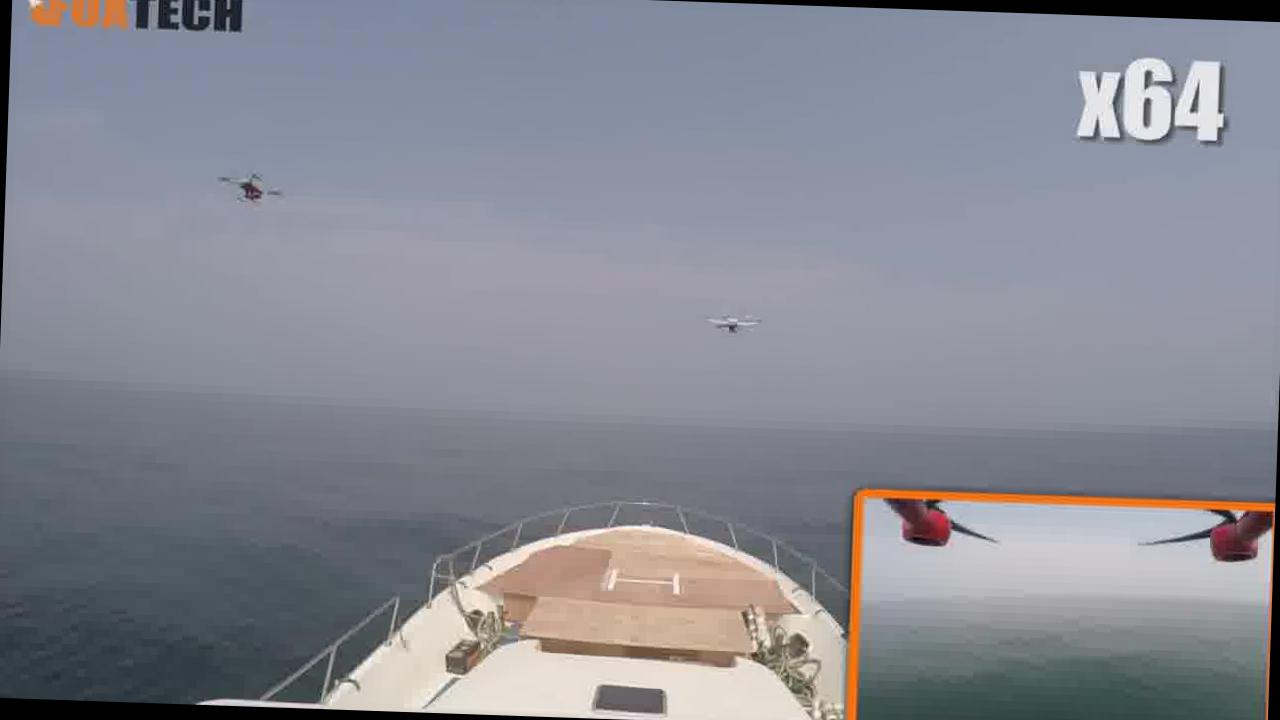drone: (194, 146, 284, 210), (681, 292, 774, 342)
